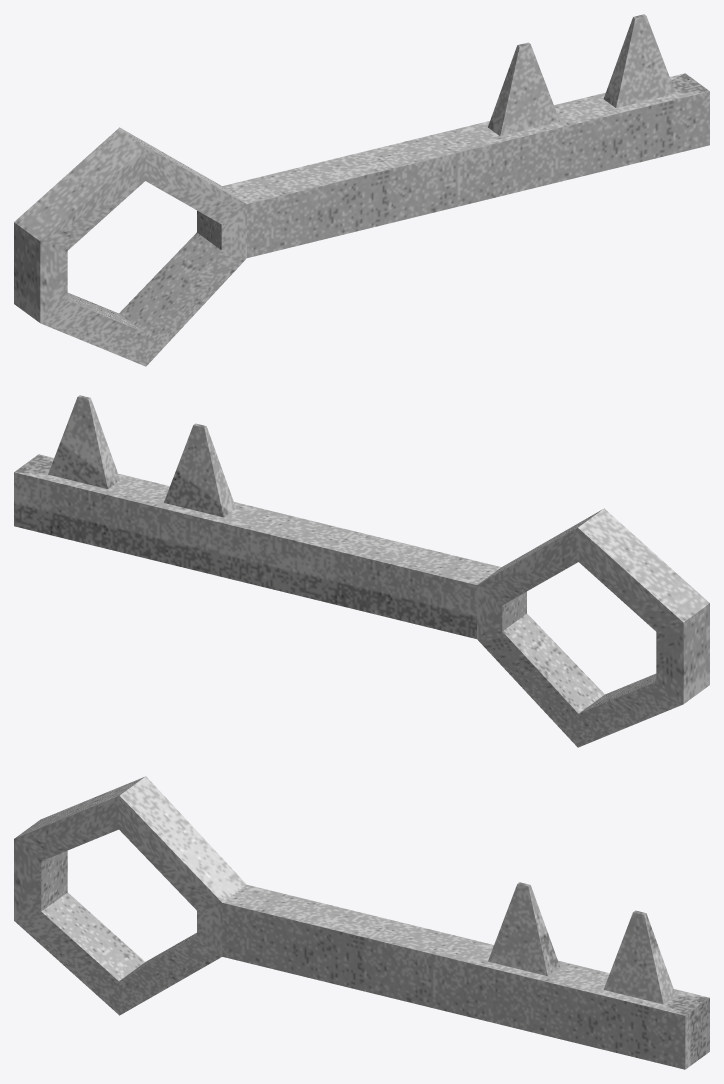
Rendered from Key_Silver.obj.
3 views of the same model, one above another, from view 1: azimuth 30°, elevation 25°; view 2: azimuth 150°, elevation 25°; view 3: azimuth 330°, elevation 25° (orthographic).
Parts seen in each view (by area): view 1: Silver_Key_Cylinder; view 2: Silver_Key_Cylinder; view 3: Silver_Key_Cylinder.
Boxes of the visible parts, x1,y1,x2,y2 form: Silver_Key_Cylinder: (14,14,709,366); Silver_Key_Cylinder: (14,395,709,747); Silver_Key_Cylinder: (14,776,709,1069).
Size of the model in its own units: 0.9472 by 0.2971 by 0.0648.
